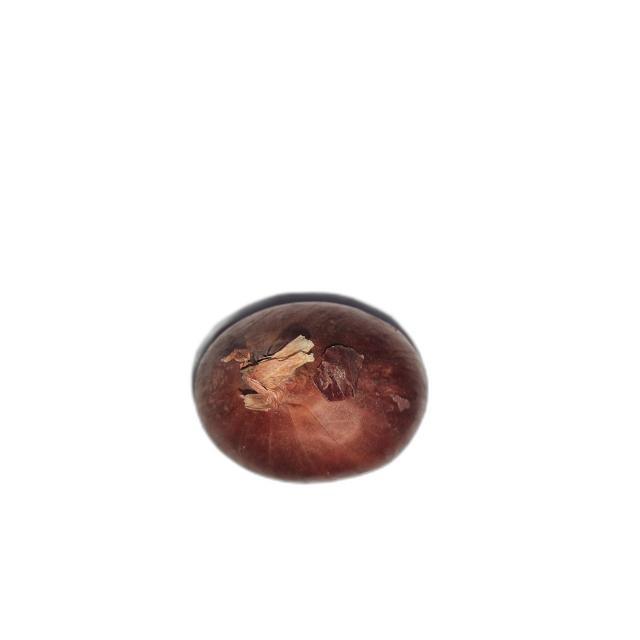onion: (190, 300, 429, 485)
